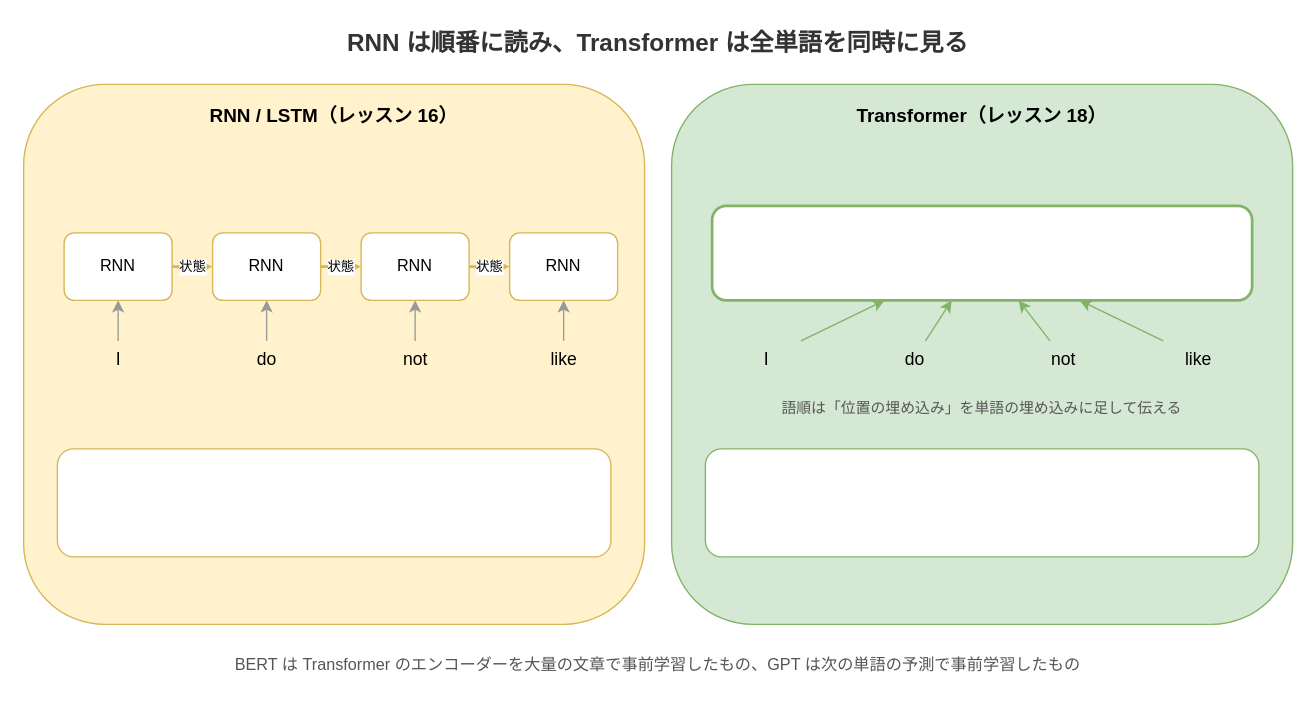
This 1316x714 diagram has some shape labels left out. Each missing label, with the centre of its shape:
セルフアテンション 各単語が、ほかのすべての単語にどれだけ注目するかの重みを計算する: the point at 981,252
全単語を同時に計算できる（GPU で並列化しやすい） 離れた単語どうしも 1 段で直接つながる: the point at 981,502
前の単語の処理が終わらないと次に進めない（並列化できない） 遠く離れた単語の情報は、状態を何度も通るうちに薄れる: the point at 333,502
